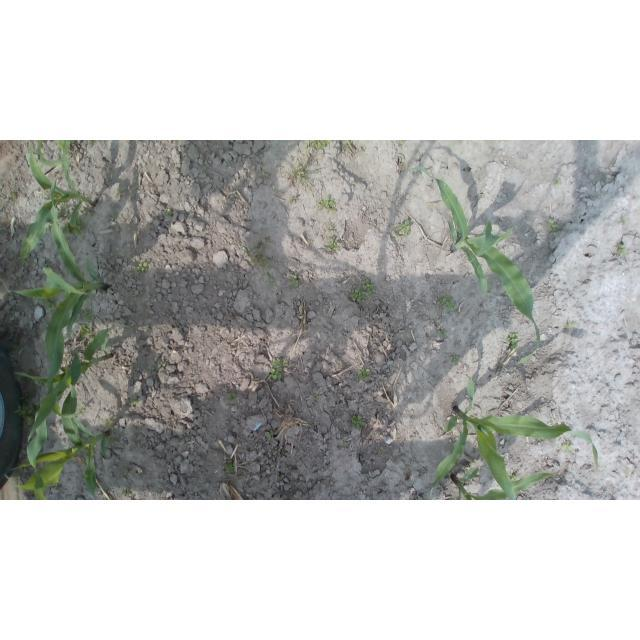Maize: (407, 166, 543, 366), (2, 175, 109, 392), (431, 376, 598, 501), (17, 324, 130, 500), (3, 348, 111, 500), (18, 141, 95, 260), (450, 466, 560, 500), (33, 141, 75, 166)
Weeds: (244, 239, 280, 289), (16, 405, 37, 428), (269, 357, 288, 380), (291, 163, 311, 181), (436, 294, 456, 312), (318, 196, 337, 213), (306, 140, 333, 150), (56, 201, 69, 221), (362, 279, 376, 296), (350, 287, 367, 301), (507, 333, 520, 350), (42, 296, 56, 311), (76, 215, 87, 234), (399, 220, 412, 235), (350, 416, 364, 429), (390, 225, 403, 238), (59, 222, 72, 235), (81, 308, 94, 321), (546, 219, 558, 233), (358, 368, 371, 380), (136, 260, 149, 272), (329, 238, 340, 252), (225, 460, 236, 474), (617, 243, 628, 256), (562, 441, 574, 452), (80, 325, 90, 338), (437, 328, 448, 339), (120, 485, 132, 495), (105, 417, 114, 430), (116, 186, 127, 196), (290, 274, 299, 286), (227, 392, 237, 402), (75, 405, 85, 415), (450, 352, 458, 364), (265, 430, 274, 440), (564, 322, 574, 331), (108, 436, 117, 446), (345, 140, 354, 148), (8, 192, 16, 201), (130, 397, 138, 406), (510, 473, 519, 481), (167, 207, 174, 217), (79, 204, 87, 212), (261, 166, 268, 175), (45, 192, 52, 201), (91, 332, 98, 341), (156, 363, 165, 370), (311, 395, 319, 402), (620, 218, 628, 225), (555, 179, 562, 187), (124, 470, 132, 477), (54, 485, 63, 491), (290, 197, 297, 204), (327, 224, 334, 231), (377, 447, 383, 455), (340, 442, 348, 447), (397, 140, 403, 146), (277, 476, 283, 480)
